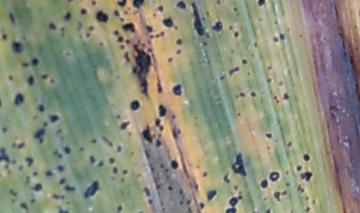tarspot: (133, 44, 150, 94), (191, 1, 204, 35), (231, 153, 247, 177), (85, 182, 99, 198), (142, 126, 154, 144), (95, 10, 108, 22), (1, 147, 10, 162), (102, 135, 113, 147), (161, 17, 173, 28), (122, 23, 135, 33), (229, 196, 242, 206), (300, 171, 313, 181), (12, 41, 23, 52), (212, 22, 223, 33), (172, 84, 182, 96), (269, 171, 280, 181), (15, 94, 24, 106), (159, 104, 167, 117), (35, 129, 45, 139), (170, 159, 179, 170), (176, 1, 187, 10), (25, 156, 33, 167), (133, 1, 144, 9), (274, 191, 282, 202), (9, 13, 16, 25), (65, 185, 77, 192), (48, 21, 57, 30), (63, 12, 72, 21), (131, 102, 140, 111), (302, 153, 311, 162), (207, 191, 216, 200), (31, 57, 39, 67), (260, 179, 268, 189), (143, 186, 151, 196), (156, 81, 162, 94), (63, 145, 71, 154), (121, 121, 130, 129), (230, 67, 239, 75), (282, 91, 290, 100), (56, 164, 65, 172), (33, 183, 42, 191), (21, 202, 29, 211), (224, 174, 231, 184), (28, 75, 34, 86), (77, 20, 83, 31), (124, 52, 130, 63), (54, 128, 62, 136), (145, 24, 153, 32), (1, 33, 8, 42), (38, 103, 45, 112), (50, 115, 59, 122), (226, 207, 236, 213), (112, 164, 118, 174), (18, 141, 25, 149), (154, 118, 161, 126), (117, 35, 124, 43), (113, 29, 120, 37), (113, 10, 121, 17), (175, 39, 183, 46), (272, 35, 279, 43), (297, 185, 304, 193), (90, 154, 96, 163), (116, 144, 122, 153), (118, 1, 127, 7), (257, 1, 266, 7), (117, 204, 123, 213), (81, 8, 88, 15), (97, 160, 104, 167), (278, 34, 285, 41), (156, 139, 162, 147), (158, 5, 164, 13), (233, 31, 239, 39), (239, 91, 247, 97), (265, 133, 273, 139), (294, 165, 302, 171), (199, 201, 205, 209), (58, 178, 66, 184), (52, 193, 60, 199), (172, 130, 177, 139), (59, 208, 68, 213), (8, 74, 14, 81), (11, 141, 17, 148), (1, 126, 7, 133), (17, 164, 24, 170), (115, 113, 121, 120), (91, 137, 97, 144), (32, 113, 38, 120), (166, 57, 173, 63), (250, 91, 257, 97), (121, 168, 127, 175), (10, 189, 17, 195), (21, 62, 29, 67), (240, 59, 248, 64), (79, 146, 85, 152), (109, 158, 115, 164), (171, 114, 177, 120), (159, 163, 165, 169), (125, 38, 131, 44), (123, 10, 129, 16), (267, 65, 273, 71), (305, 206, 311, 212), (194, 184, 200, 190), (186, 199, 192, 205), (147, 199, 153, 205), (195, 164, 201, 170), (265, 145, 271, 151), (41, 74, 48, 79), (43, 120, 48, 127), (90, 1, 97, 6), (159, 125, 164, 132), (22, 34, 27, 41), (114, 74, 121, 79), (175, 49, 182, 54), (253, 41, 258, 48), (287, 141, 292, 148), (297, 34, 304, 39), (119, 177, 126, 182), (46, 171, 53, 176), (26, 175, 30, 183), (50, 78, 56, 83), (39, 138, 44, 144), (12, 158, 17, 164), (60, 26, 65, 32), (89, 25, 94, 31), (85, 33, 91, 38), (99, 41, 104, 47), (157, 132, 162, 138), (119, 44, 125, 49), (120, 17, 125, 23), (127, 131, 132, 137), (147, 47, 153, 52), (149, 33, 154, 39), (173, 25, 179, 30), (220, 76, 226, 81), (228, 25, 233, 31), (266, 78, 272, 83), (272, 95, 278, 100), (278, 81, 283, 87), (257, 17, 263, 22), (282, 190, 288, 195), (203, 171, 208, 177), (168, 186, 174, 191), (110, 176, 116, 181), (30, 198, 36, 203), (5, 162, 9, 169), (285, 168, 289, 175), (54, 151, 59, 156), (66, 52, 71, 57), (155, 33, 160, 38), (160, 31, 165, 36), (205, 12, 210, 17), (216, 1, 221, 6), (233, 7, 238, 12), (250, 53, 255, 58), (262, 196, 267, 201), (7, 170, 12, 175), (230, 48, 234, 54), (286, 27, 290, 33), (266, 209, 272, 213), (312, 199, 316, 205), (179, 189, 183, 195), (193, 116, 199, 120), (59, 153, 63, 158), (177, 129, 181, 134), (130, 151, 135, 155), (61, 33, 65, 38), (152, 13, 157, 17), (206, 34, 210, 39), (203, 41, 207, 46), (275, 20, 279, 25), (237, 112, 242, 116), (247, 71, 251, 76), (234, 185, 238, 190), (305, 196, 309, 201), (180, 201, 184, 206), (34, 171, 38, 176), (12, 200, 17, 204), (290, 208, 294, 213), (276, 100, 280, 104), (61, 195, 65, 199), (68, 1, 74, 3), (286, 183, 290, 186), (1, 98, 2, 109)
